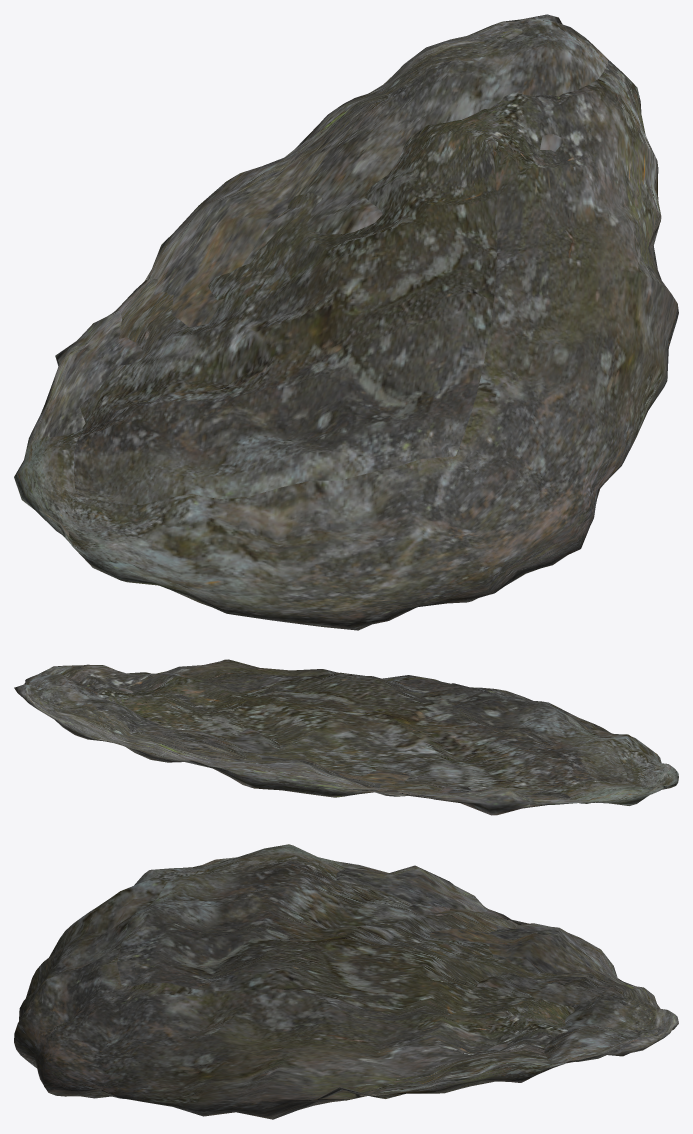
File: T_Rock_2.fbx
3 views of the same model, one above another, from view 1: azimuth 30°, elevation 25°; view 2: azimuth 150°, elevation 25°; view 3: azimuth 270°, elevation 25° (orthographic). The views are drawn at different scales.
Visible parts, largest first — view 1: Cube; view 2: Cube; view 3: Cube.
Part boxes in pixels (bbox=[...]): Cube: bbox=[14, 14, 678, 630]; Cube: bbox=[14, 659, 678, 815]; Cube: bbox=[14, 844, 678, 1119].
Size of the model in its own units: 1068 by 319 by 926.
Materials: 1 (1 with a texture image).
